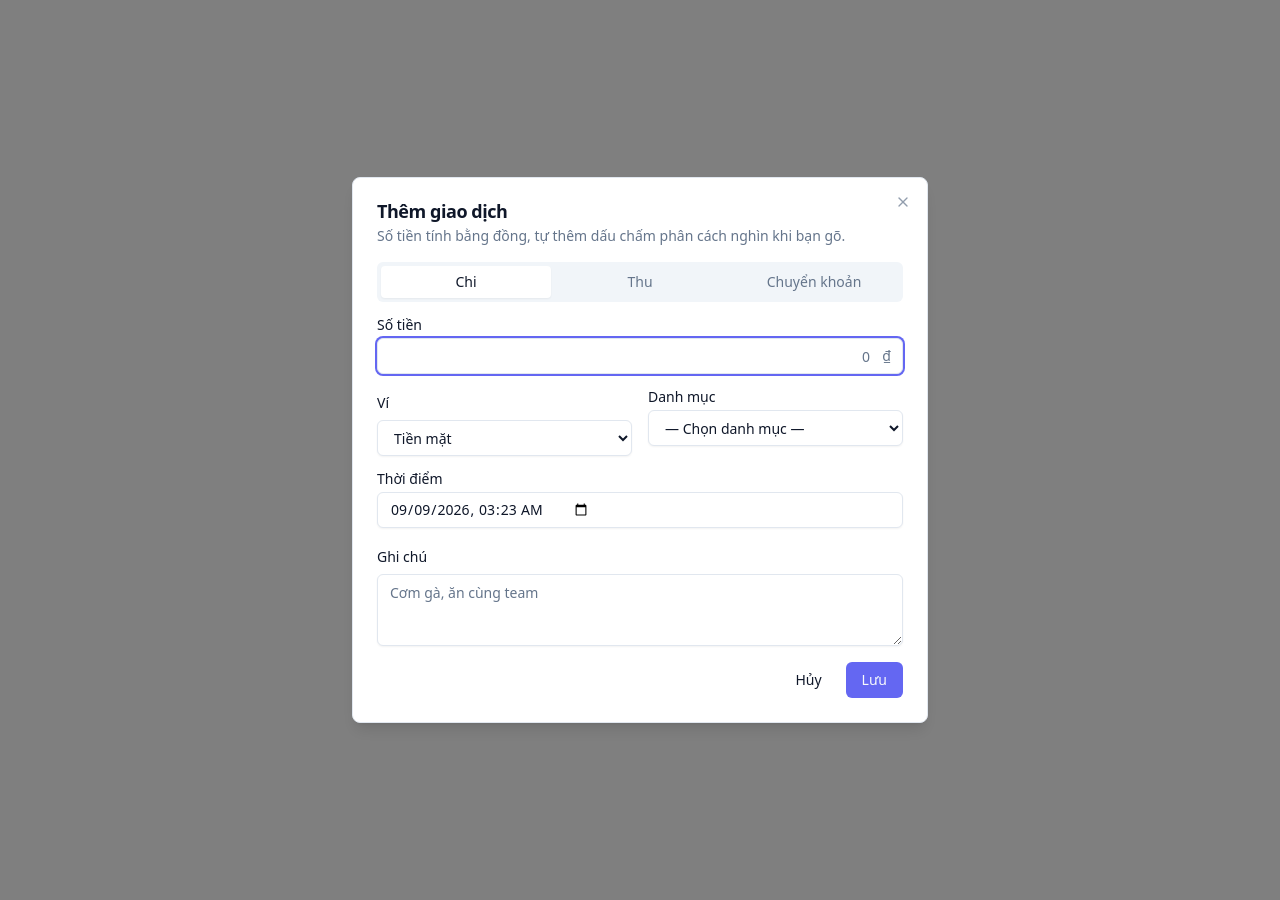
Test: TransactionFormDialog › UC-06 E1 — số tiền bằng 0 hiện lỗi inline và KHÔNG gọi API
Expected: the field labelled "Số tiền" is shown, x1=377 y1=338 x2=903 y2=374
Click the button "Lưu": (874, 680) x1=846 y1=662 x2=903 y2=698
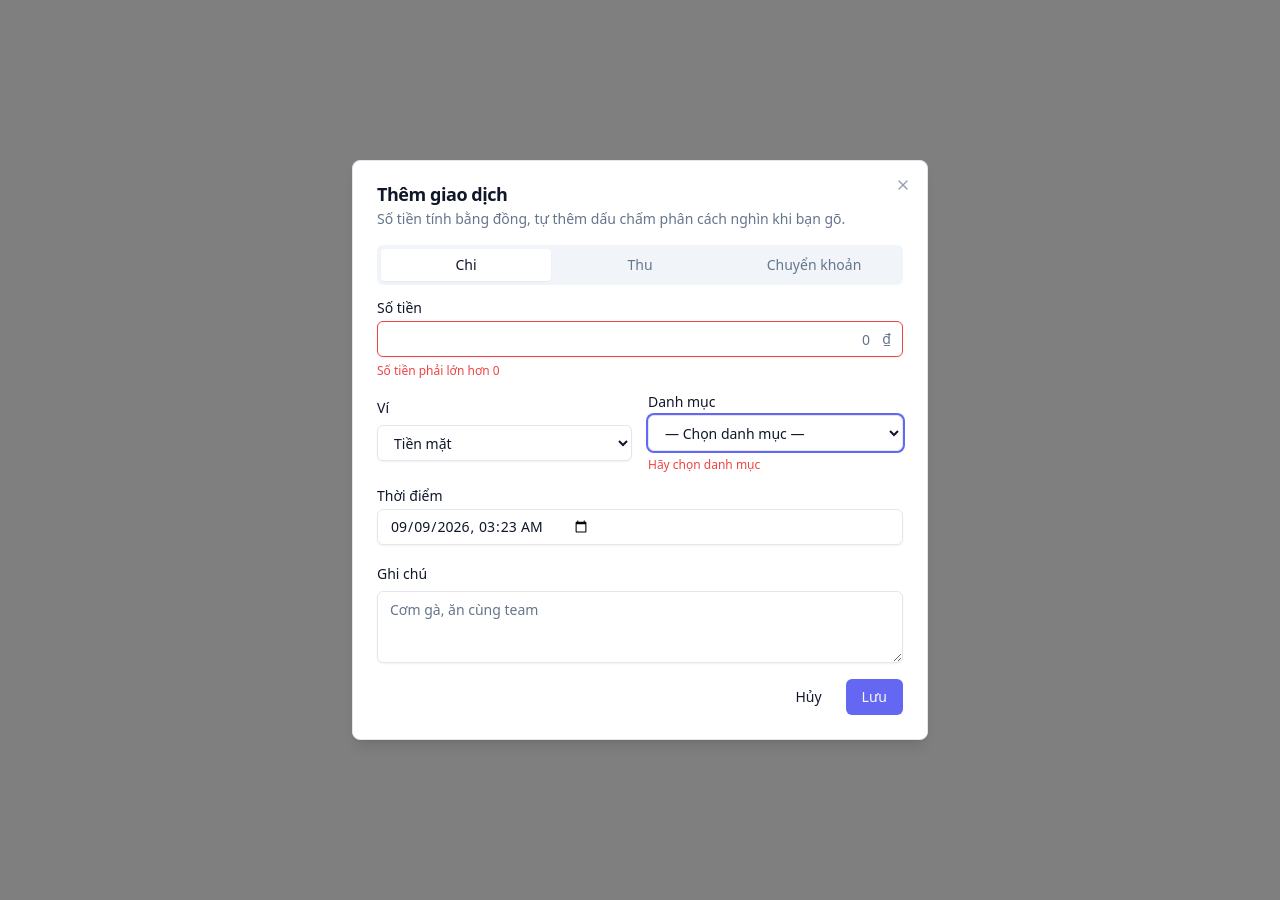
Expected: the text "Số tiền phải lớn hơn 0" is shown, x1=377 y1=362 x2=500 y2=379
